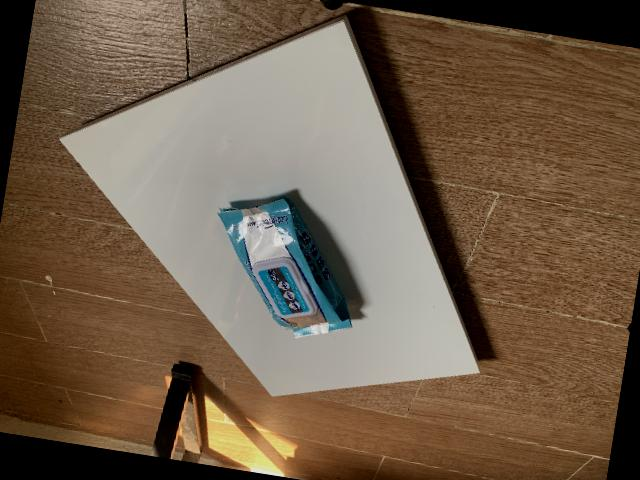Let-green_alcohol_wipes: (216, 196, 351, 337)
